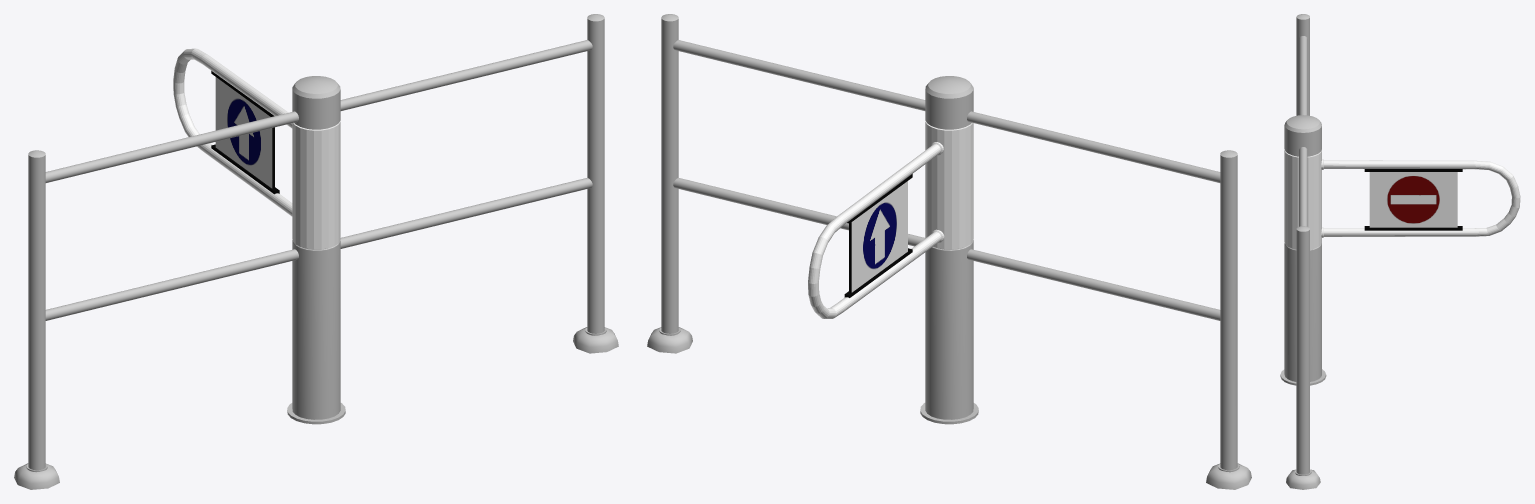
Rendered from barrier_gate.fbx.
3 views of the same model, side by side, from view 1: azimuth 30°, elevation 25°; view 2: azimuth 150°, elevation 25°; view 3: azimuth 270°, elevation 25° (orthographic). The views are drawn at different scales.
Visible parts, largest first — view 1: gate_pillar, Gate; view 2: gate_pillar, Gate; view 3: Gate, gate_pillar.
Boxes of the visible parts, left/top/right/bottom form: gate_pillar: left=14, top=14, right=618, bottom=489; Gate: left=173, top=48, right=340, bottom=249; gate_pillar: left=647, top=14, right=1251, bottom=489; Gate: left=808, top=121, right=973, bottom=318; Gate: left=1284, top=150, right=1520, bottom=249; gate_pillar: left=1280, top=14, right=1326, bottom=489.
Bounding box in the file's own units: 21.39 × 11.32 × 9.57.
